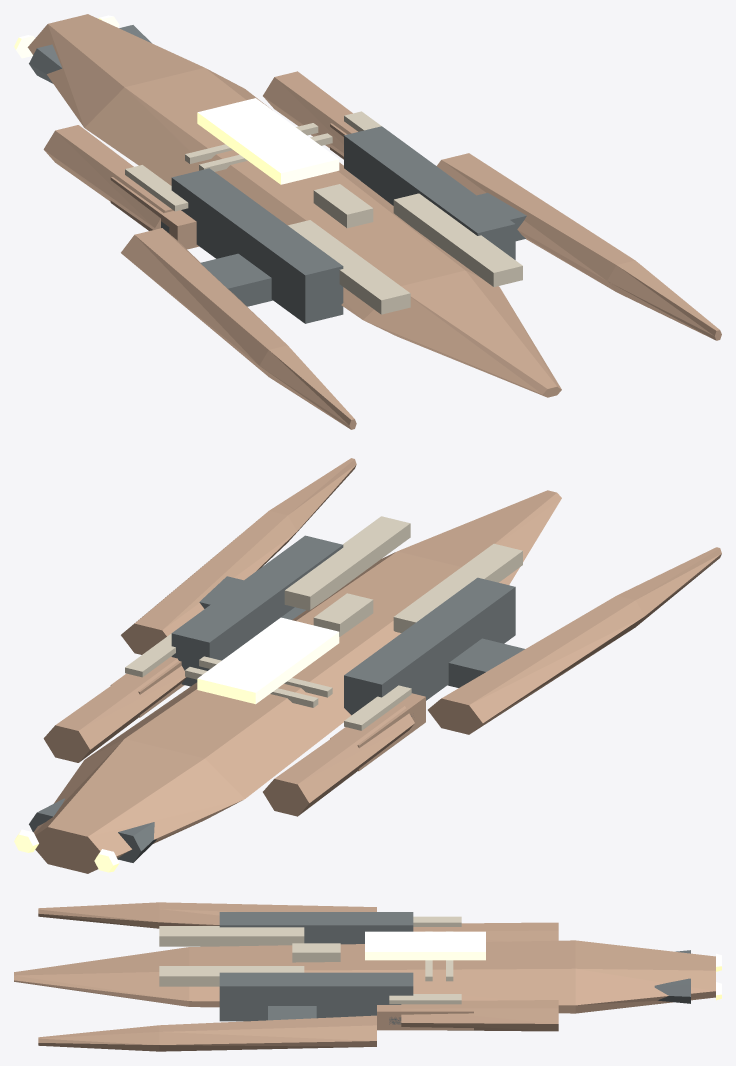
The picture shows the model from 3 angles, top to bottom: view 1: azimuth 30°, elevation 25°; view 2: azimuth 150°, elevation 25°; view 3: azimuth 270°, elevation 25°; orthographic projection. The views are drawn at different scales.
Bounding box in the file's own units: 5.6 × 1.1 × 12.29.
